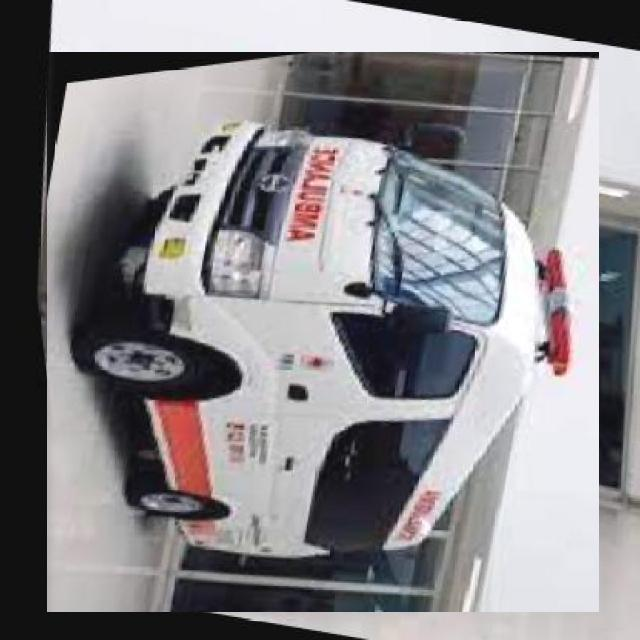emergency-vehicle: (44, 54, 602, 610)
